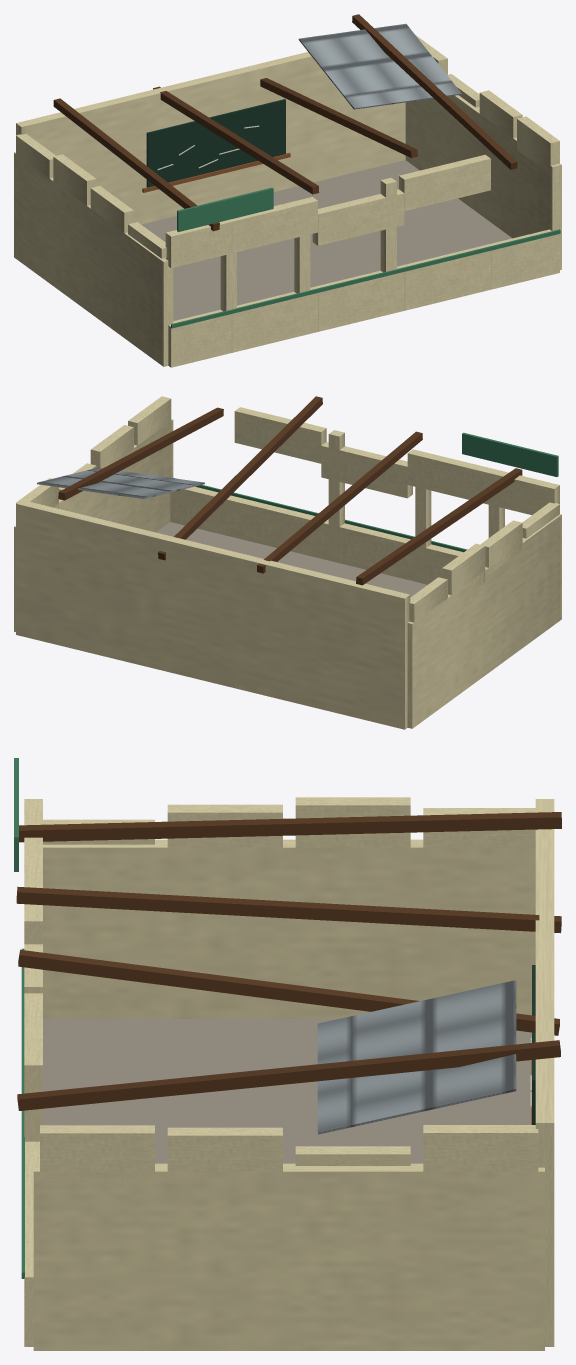
Rendered from prop_sekolah.glb.
3 renders of one model, top to bottom at view 1: azimuth 30°, elevation 25°; view 2: azimuth 150°, elevation 25°; view 3: azimuth 270°, elevation 25°, orthographic. The views are drawn at different scales.
Visible parts, largest first — view 1: sekolah; view 2: sekolah; view 3: sekolah.
Part boxes in pixels (bbox=[...]): sekolah: bbox=[14, 14, 561, 367]; sekolah: bbox=[14, 396, 561, 729]; sekolah: bbox=[14, 758, 561, 1350].
Bounding box in the file's own units: 9.22 × 3.52 × 6.43.
Materials: 8 (2 with a texture image).
